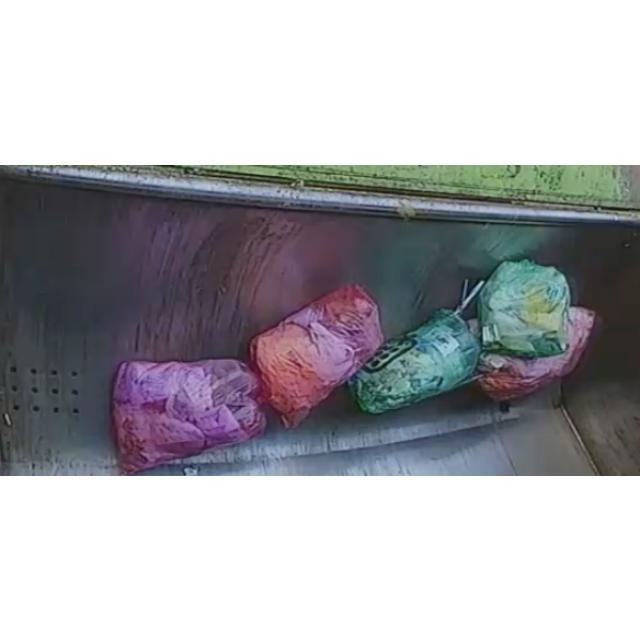general_trashbag: (349, 309, 480, 412), (478, 258, 570, 356)
other_trashbag: (250, 284, 384, 427), (112, 358, 266, 473)
